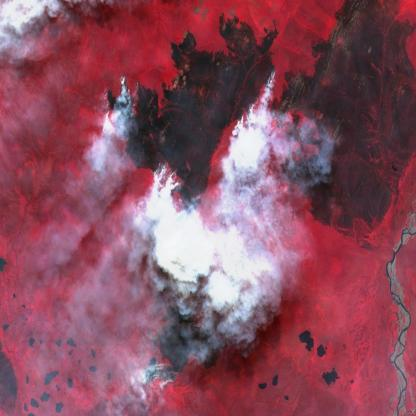fire: (101, 60, 280, 240), (140, 319, 188, 395)
